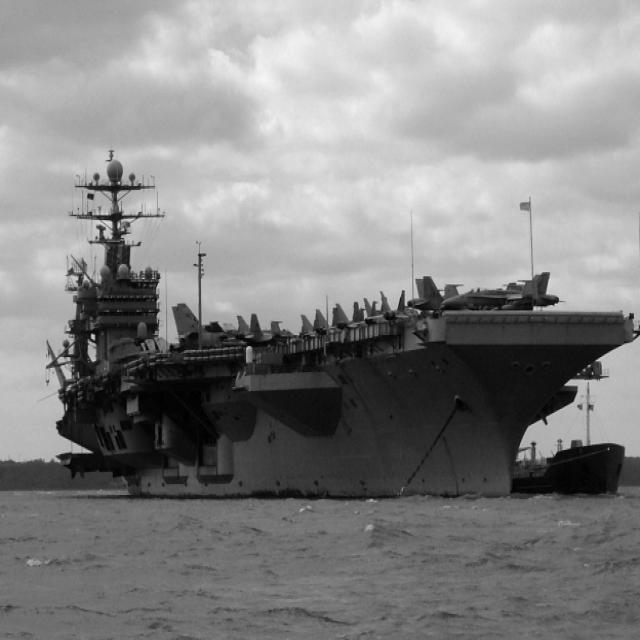Portanaves: (45, 141, 640, 505)
